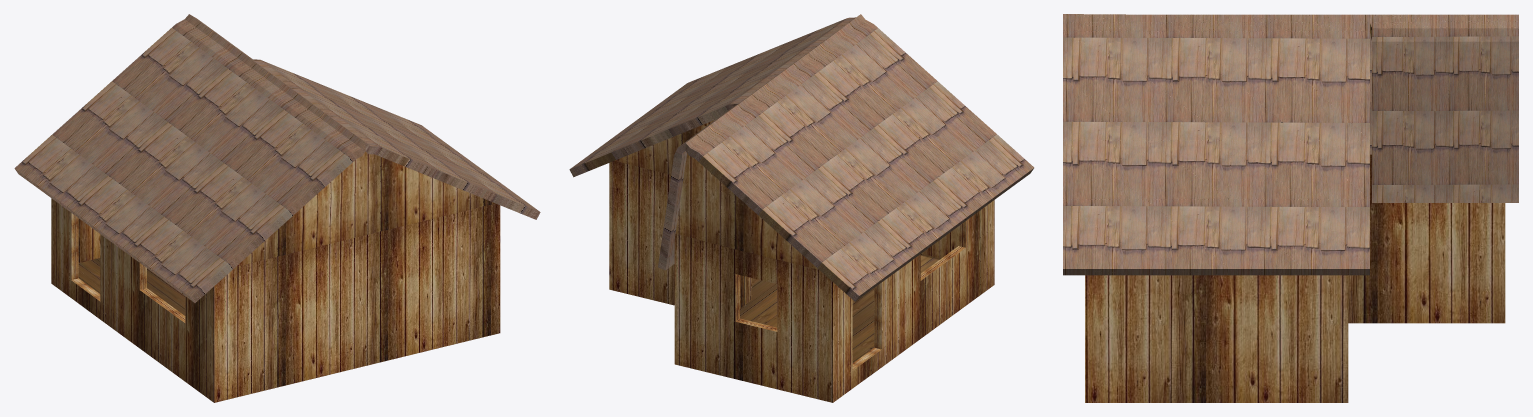
The model's file is Saray 0.5.fbx.
The picture shows the model from 3 angles, left to right: view 1: azimuth 30°, elevation 25°; view 2: azimuth 150°, elevation 25°; view 3: azimuth 270°, elevation 25°; orthographic projection. The views are drawn at different scales.
Visible parts, largest first — view 1: BarnRoof, Barn; view 2: BarnRoof, Barn; view 3: BarnRoof, Barn.
Boxes of the visible parts, left/top/right/bottom form: BarnRoof: left=14, top=14, right=540, bottom=302; Barn: left=51, top=198, right=500, bottom=402; BarnRoof: left=569, top=14, right=1034, bottom=301; Barn: left=609, top=161, right=994, bottom=402; BarnRoof: left=1063, top=14, right=1518, bottom=275; Barn: left=1085, top=154, right=1505, bottom=402.
Bounding box in the file's own units: 7.57 × 4.79 × 6.62.
